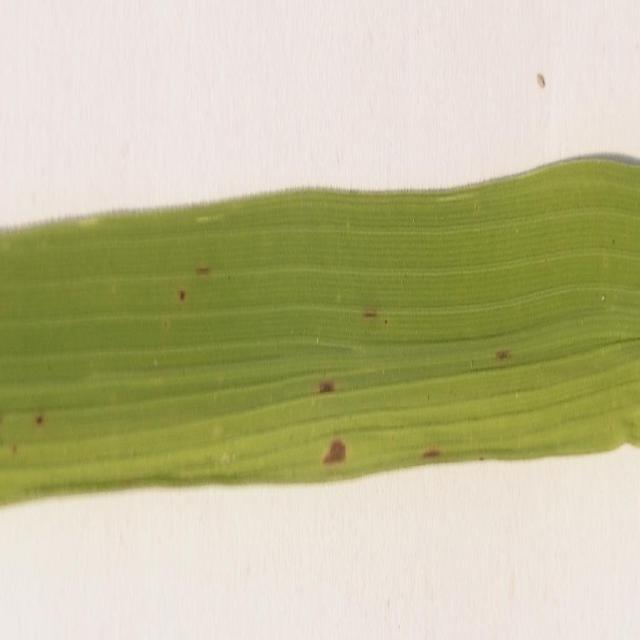Brown_Spot: (313, 356, 354, 468), (24, 390, 47, 440), (192, 250, 219, 285), (416, 441, 446, 460), (172, 276, 186, 306)
